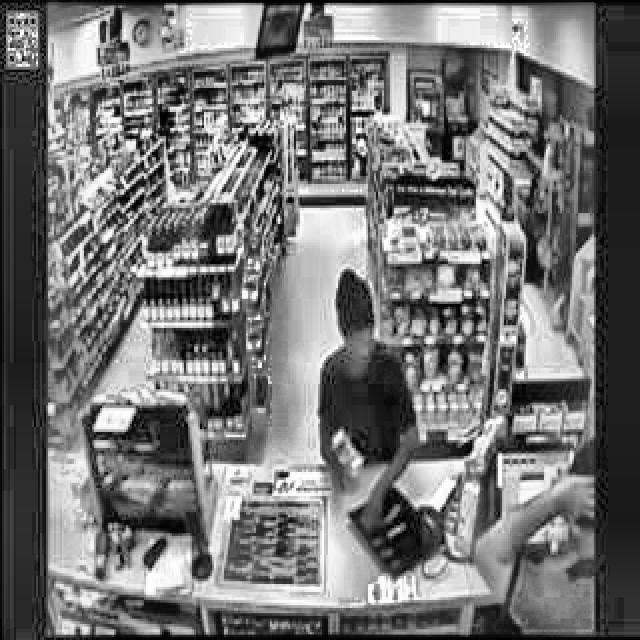robbery: (315, 270, 423, 532), (470, 433, 594, 635)
